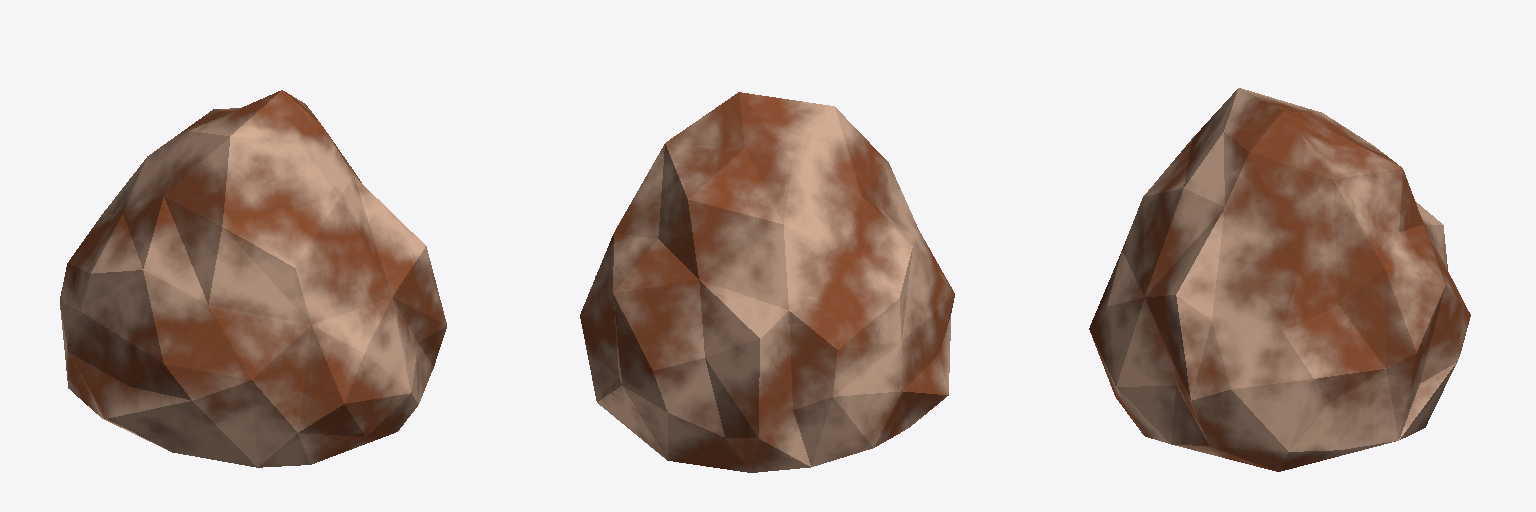
3 views of the same model, side by side, from view 1: azimuth 30°, elevation 25°; view 2: azimuth 150°, elevation 25°; view 3: azimuth 270°, elevation 25° (orthographic).
Visible parts, largest first — view 1: lowpoly_Icosphere.001; view 2: lowpoly_Icosphere.001; view 3: lowpoly_Icosphere.001.
Part boxes in pixels (bbox=[...]): lowpoly_Icosphere.001: bbox=[60, 90, 446, 467]; lowpoly_Icosphere.001: bbox=[580, 92, 954, 472]; lowpoly_Icosphere.001: bbox=[1089, 88, 1470, 471].
Size of the model in its own units: 4.41 by 4.05 by 4.43.
Materials: 1 (1 with a texture image).